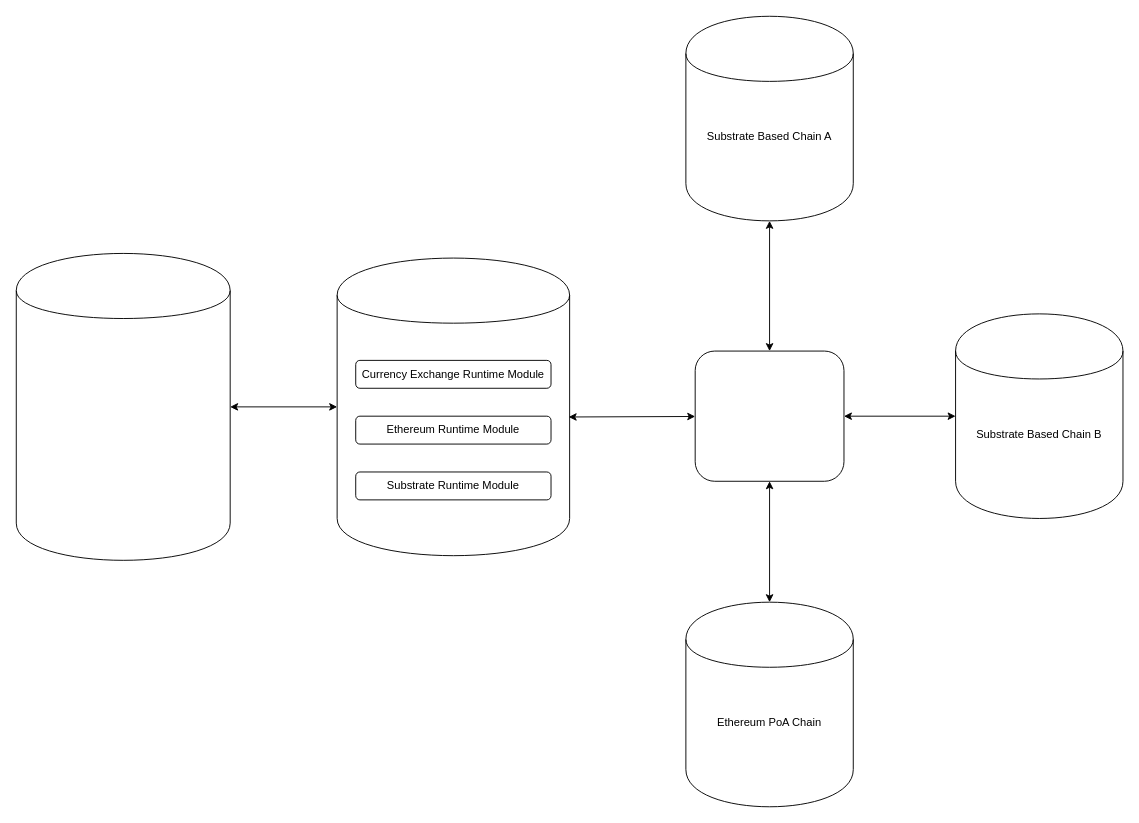
Some shapes in this 1139 by 823 pixel diagram are drawn without their labels. The centre of each missing label's shape, as x and y in pixels:
"Bridge Relays" belongs at point 769,415.
"Polkadot" belongs at point 122,406.
